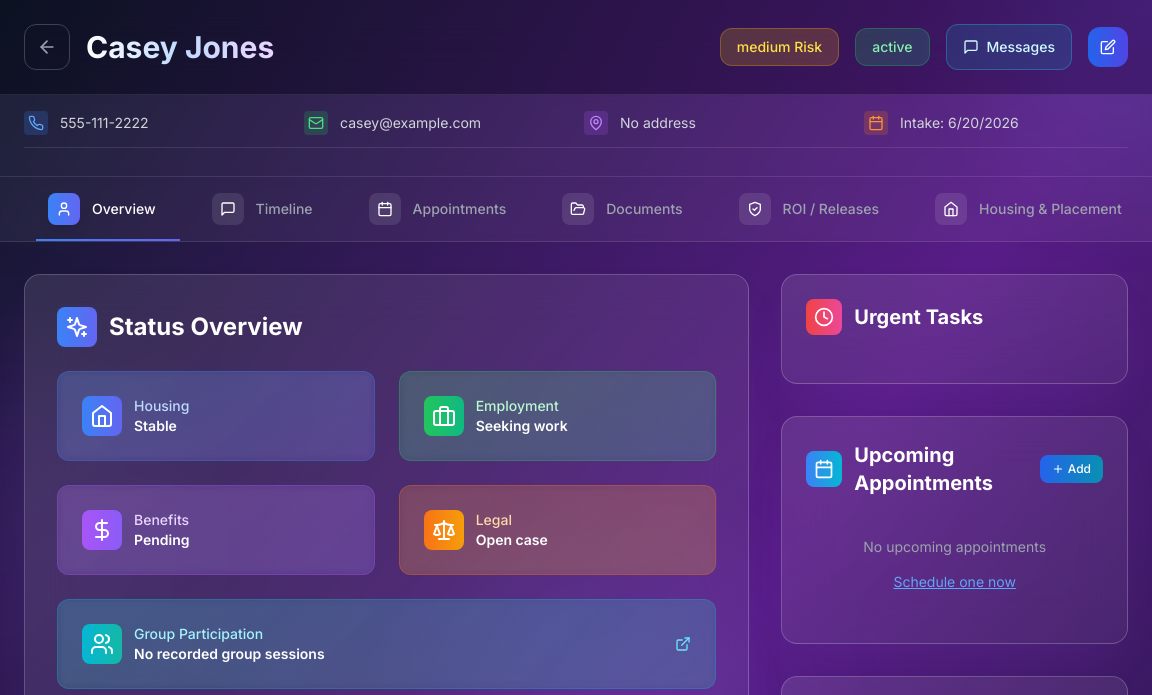
Test: ClientDashboard - ROI / Releases tab & Documents restoration › keeps the full ROI manager out of the Documents tab, showing only a compact link
Click the button "Documents": [622, 209] box [538, 177, 707, 241]
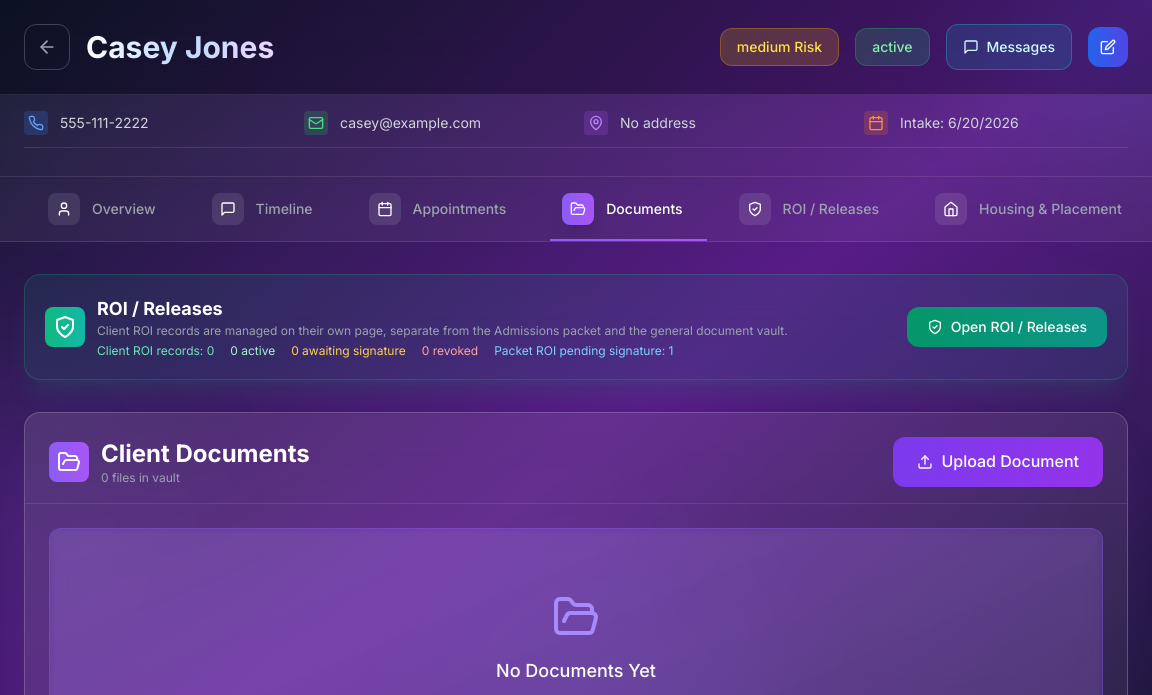
Expected: the heading "Client Documents" is shown, [101, 438, 310, 470]
Expected: the button "Upload Document" is shown, [893, 437, 1103, 487]
Expected: the button "Open ROI / Releases" is shown, [907, 307, 1107, 347]
